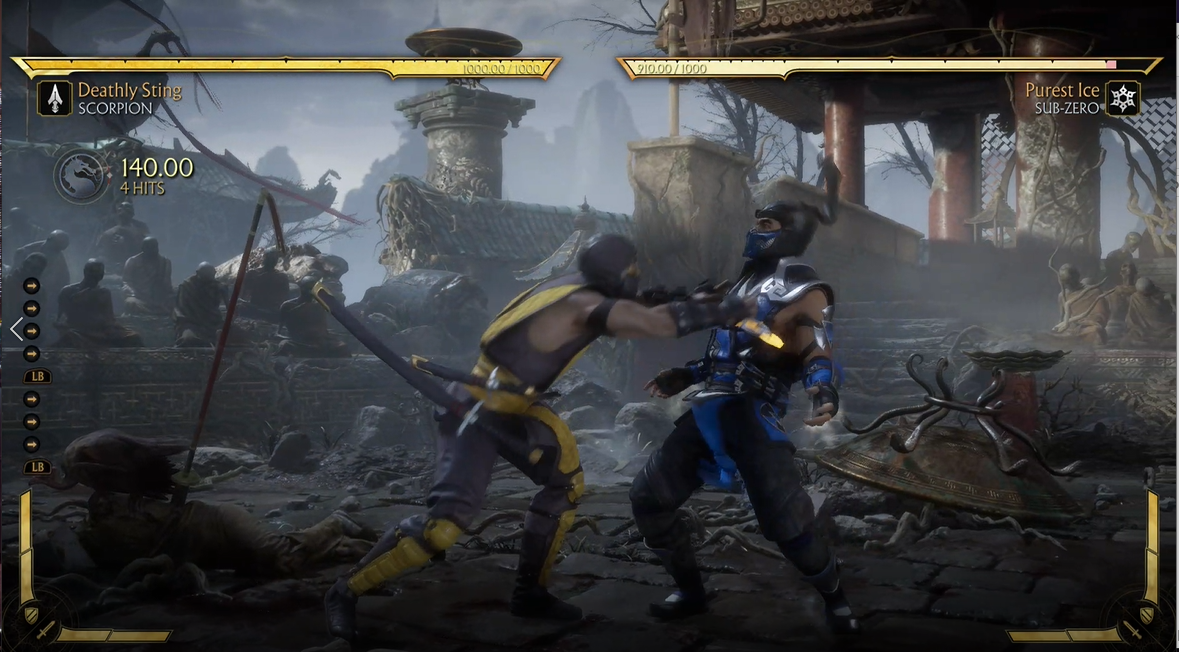grab: (306, 156, 917, 637)
